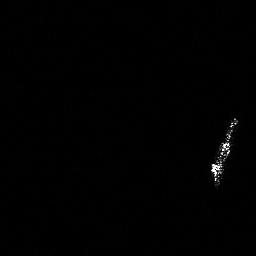ship: (210, 114, 238, 191)
